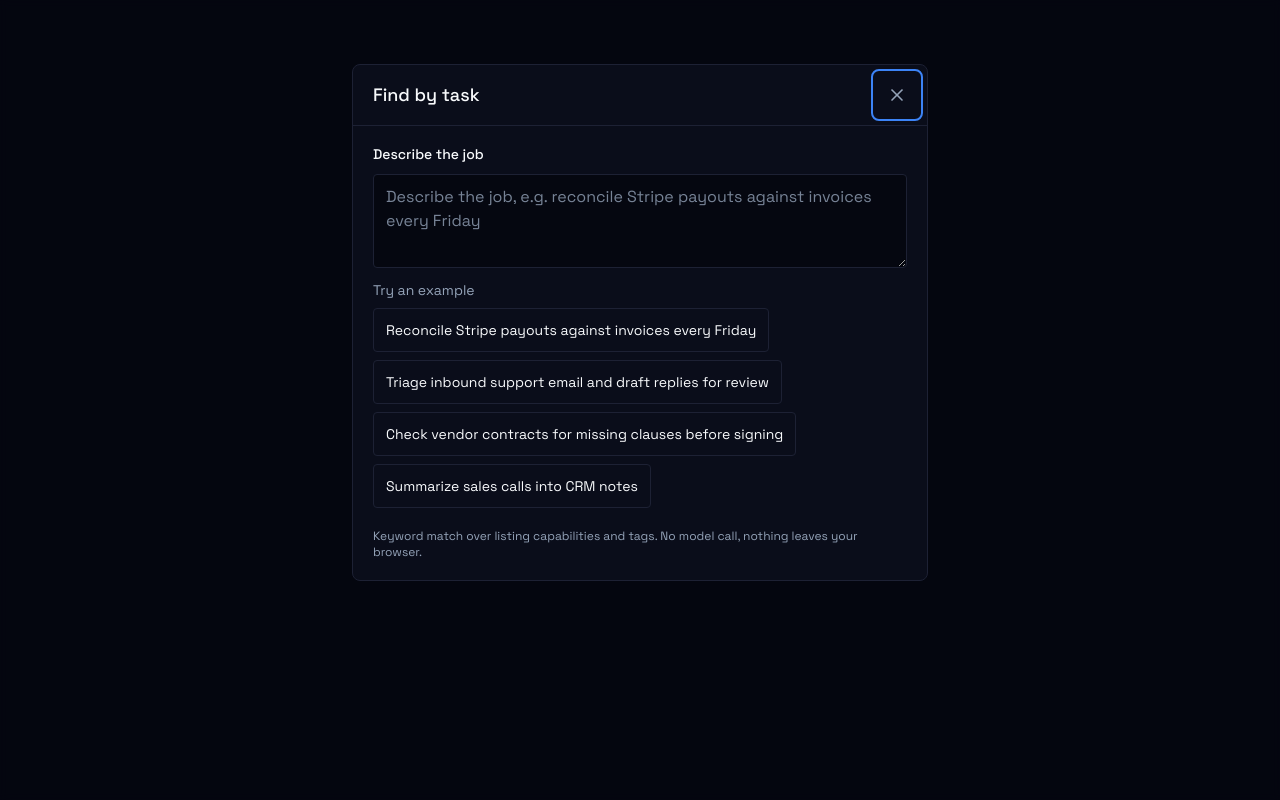
Test: TaskFinder › shows a no-match state that routes to the registry
Later steps or results of the test are not shown.
Type "translate podcasts into klingon" into the text box labelled "Describe the job". click: (640, 221)
box: [373,174,907,268]
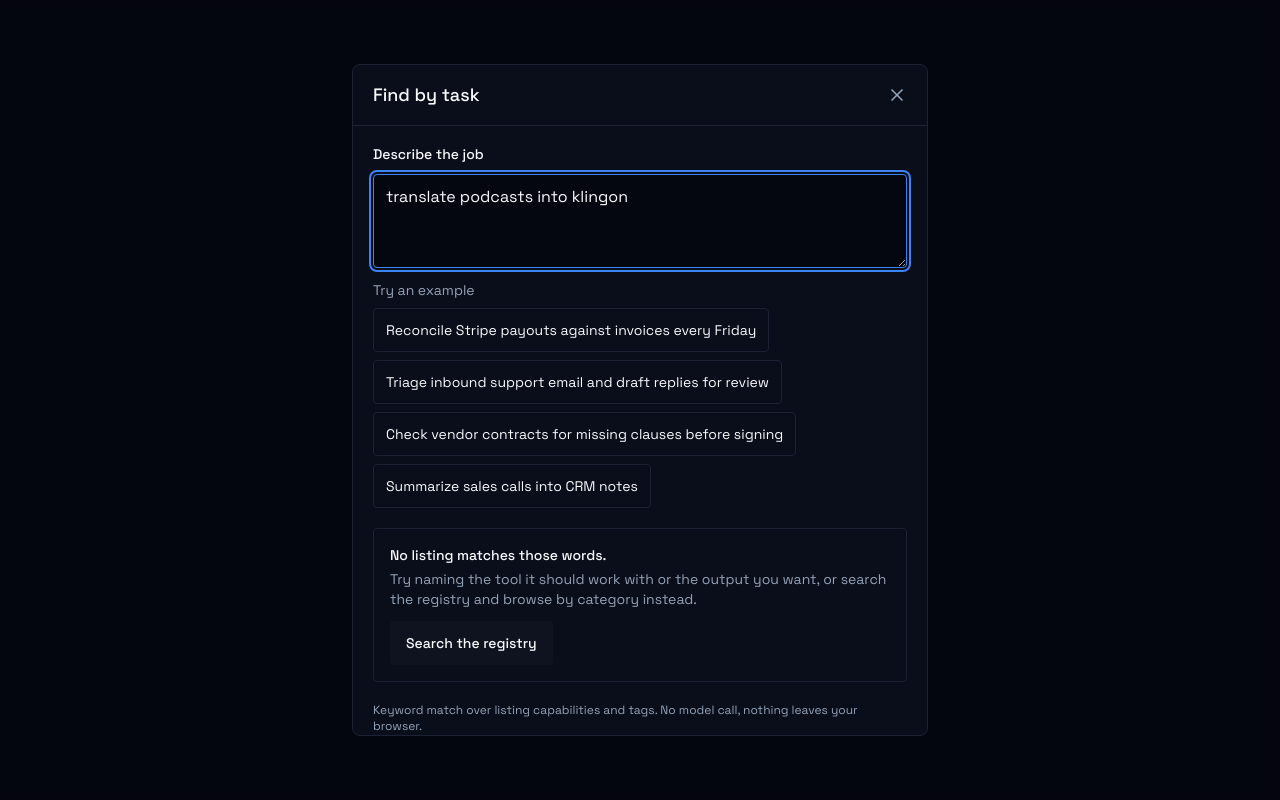
Expected: the text "No listing matches those words." is shown, [390,546,606,564]
